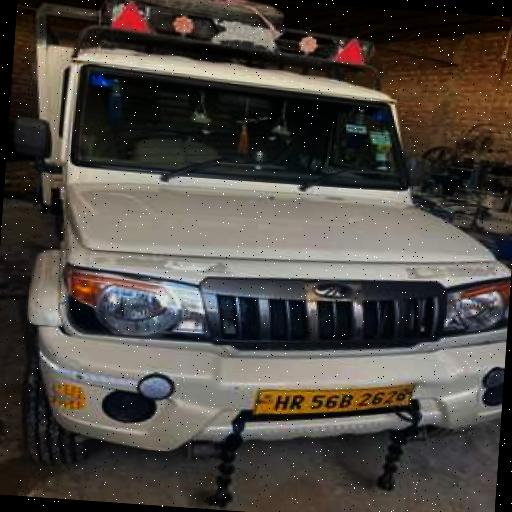license_plate`: (250, 372, 411, 426)
